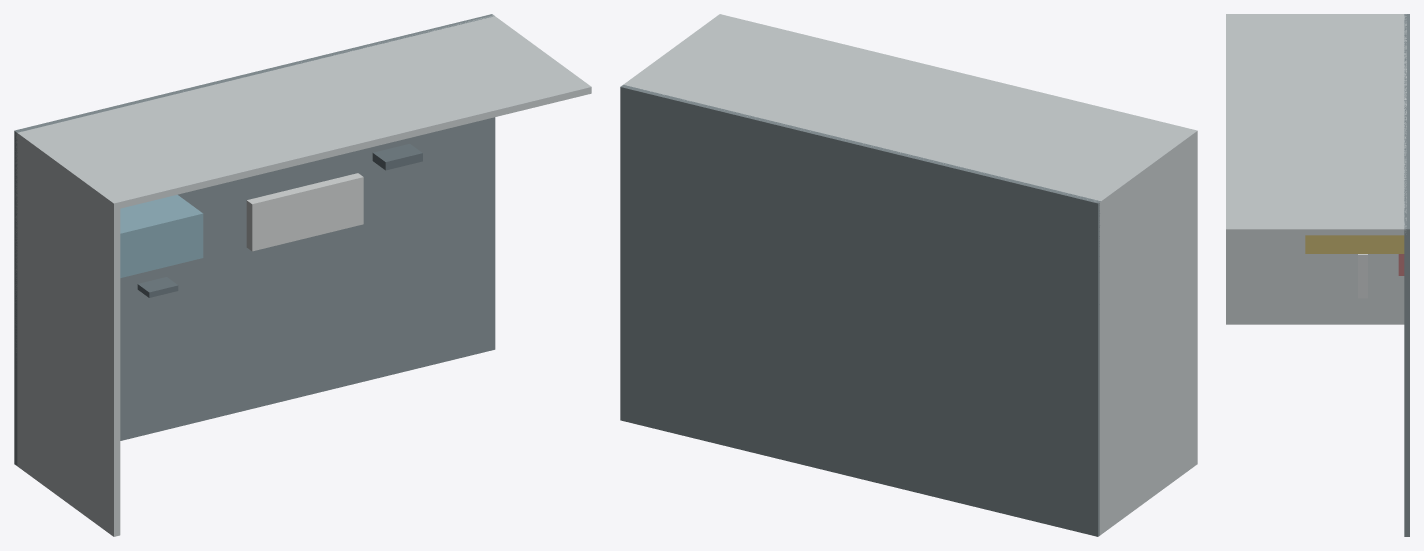
Rendered from upa-low.glb.
The picture shows the model from 3 angles, left to right: view 1: azimuth 30°, elevation 25°; view 2: azimuth 150°, elevation 25°; view 3: azimuth 270°, elevation 25°; orthographic projection. The views are drawn at different scales.
Visible parts, largest first — view 1: floor, wall_back, wall_left, observation_bed, triage_desk, patient_monitor; view 2: floor, wall_back, wall_left; view 3: wall_back, wall_left, floor, emergency_cabinet, observation_bed.
Part boxes in pixels (bbox=[...]): floor: bbox=[14, 14, 495, 465]; wall_back: bbox=[15, 15, 591, 209]; wall_left: bbox=[15, 131, 120, 536]; observation_bed: bbox=[246, 173, 363, 251]; triage_desk: bbox=[120, 194, 203, 277]; patient_monitor: bbox=[372, 144, 422, 170]; floor: bbox=[620, 84, 1100, 536]; wall_back: bbox=[623, 14, 1197, 208]; wall_left: bbox=[1094, 131, 1197, 535]; wall_back: bbox=[1226, 14, 1406, 235]; wall_left: bbox=[1226, 14, 1405, 324]; floor: bbox=[1404, 14, 1409, 536]; emergency_cabinet: bbox=[1305, 235, 1404, 253]; observation_bed: bbox=[1358, 254, 1367, 298].
Bounding box in the file's own units: 9 × 6 × 3.25.
